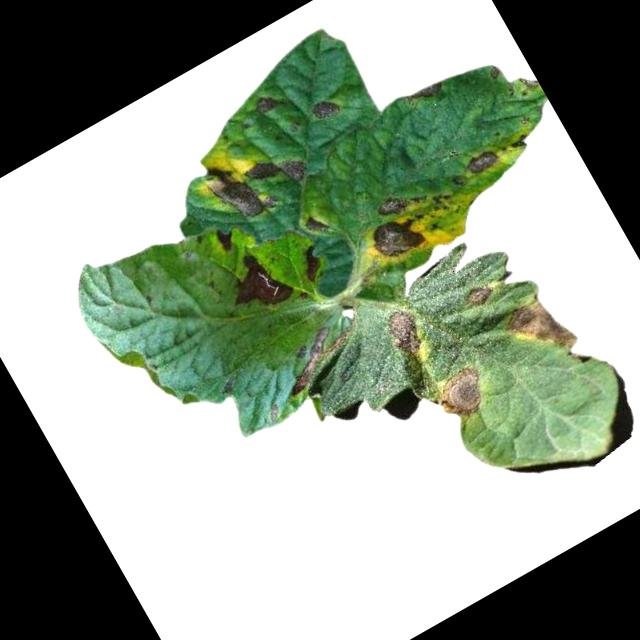Early_blight: (270, 315, 366, 397), (495, 286, 583, 375), (214, 239, 297, 322), (198, 149, 277, 231), (424, 360, 498, 431), (364, 204, 434, 270), (241, 139, 311, 202), (378, 301, 432, 361), (403, 75, 449, 111), (373, 185, 416, 221), (307, 87, 346, 125), (461, 143, 502, 178), (293, 243, 328, 283), (252, 84, 288, 117), (461, 278, 497, 311), (212, 225, 237, 253), (505, 131, 532, 155)
